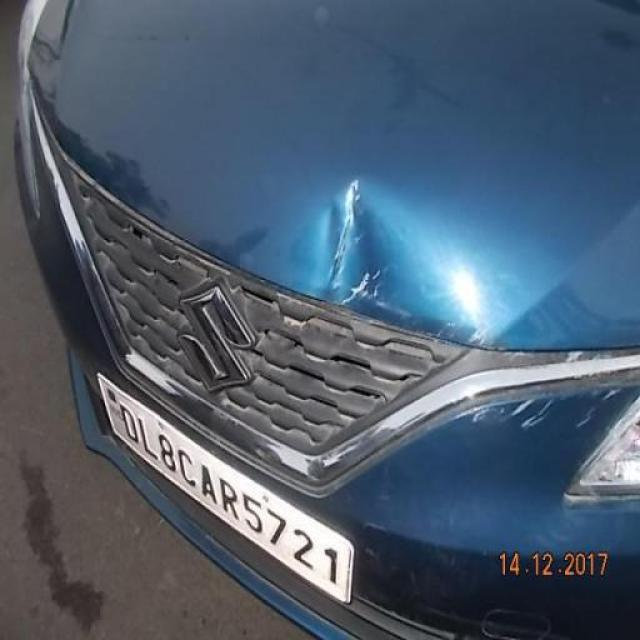dent: (312, 179, 484, 343)
scratch: (471, 385, 639, 435)
